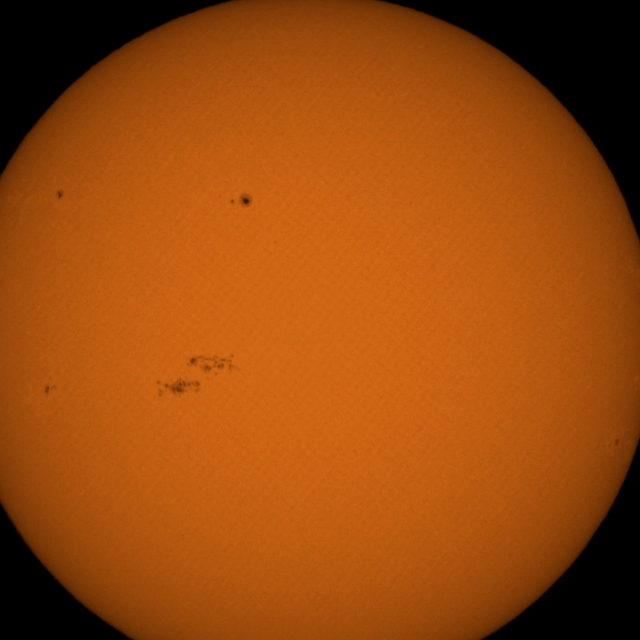sunspot: (183, 351, 240, 383), (156, 374, 203, 398), (229, 192, 253, 209), (43, 377, 58, 396), (55, 189, 64, 200), (613, 437, 621, 448), (229, 198, 236, 206)
